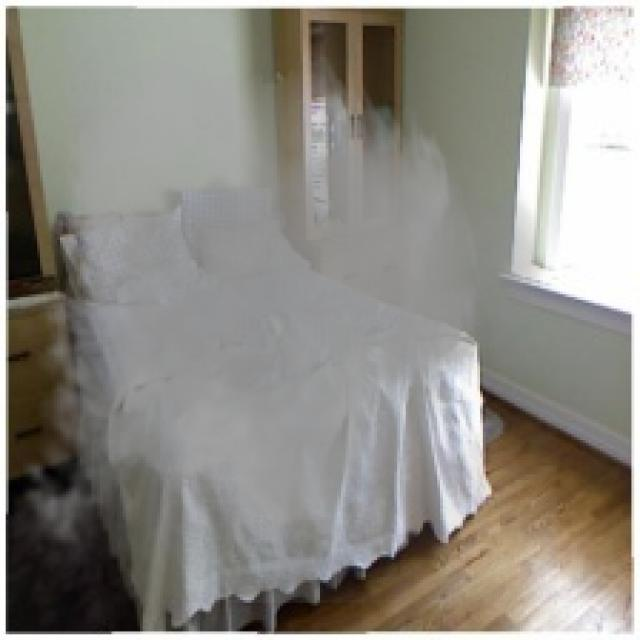smoke: (6, 37, 557, 603)
